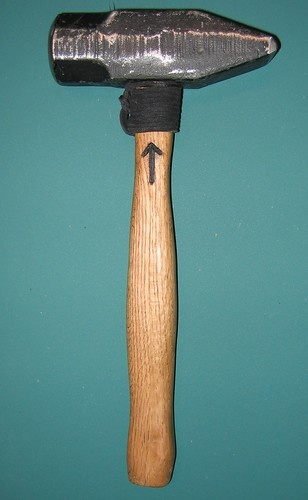hammer: (50, 7, 277, 489)
